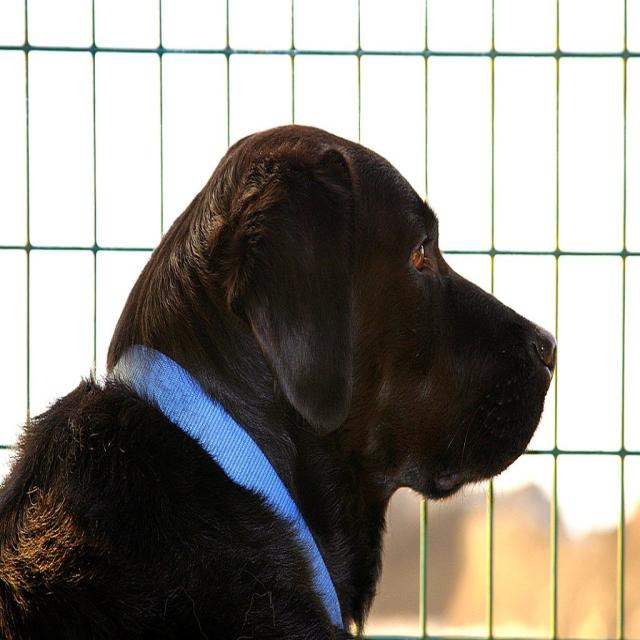Dog: (0, 121, 555, 638)
